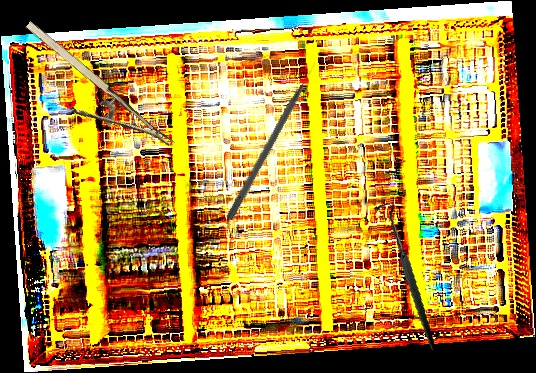Hook Surgical: (351, 201, 460, 351)
Needle Holder: (4, 16, 176, 177)
Pusher: (225, 60, 321, 222)
